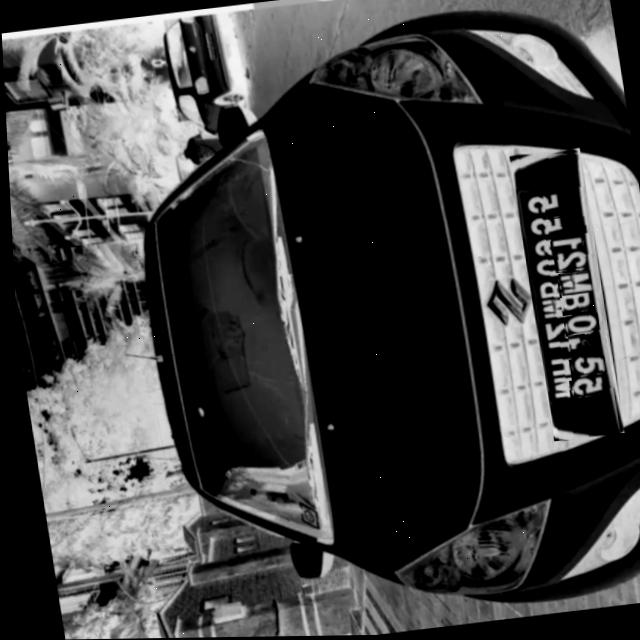0: (562, 313, 596, 335)
1: (547, 236, 582, 254)
2: (551, 250, 586, 271)
5: (567, 375, 604, 398), (567, 354, 603, 376)
9: (563, 332, 598, 356)
B: (558, 293, 590, 314)
H: (542, 215, 585, 238)
IND: (523, 155, 575, 196)
Indian_registered: (514, 152, 616, 436)
M: (540, 191, 579, 219), (554, 270, 589, 296)
